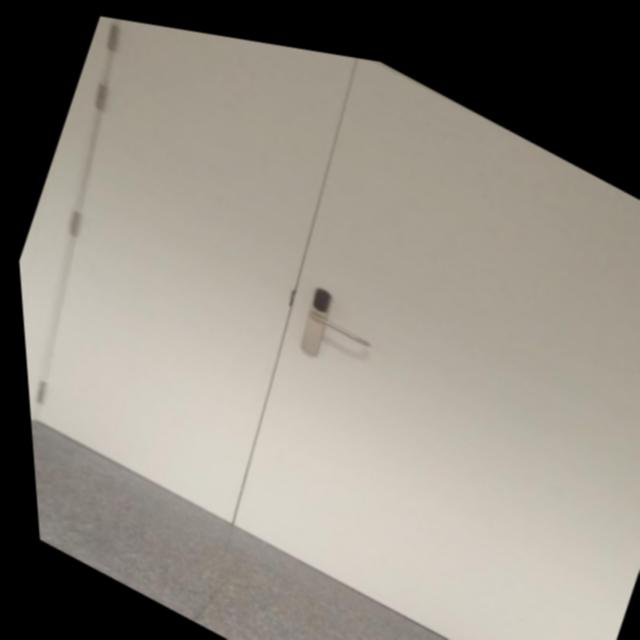door_handle: (298, 295, 371, 342)
